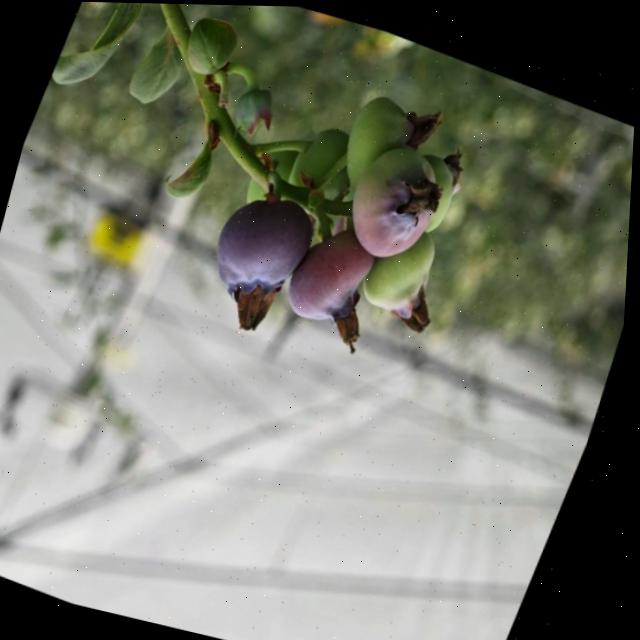RipeBlueBerry: (203, 172, 332, 308)
Semi-RipeBlueBerry: (282, 212, 389, 331)
UnripeBlueBerry: (335, 123, 461, 268), (357, 209, 454, 318)
